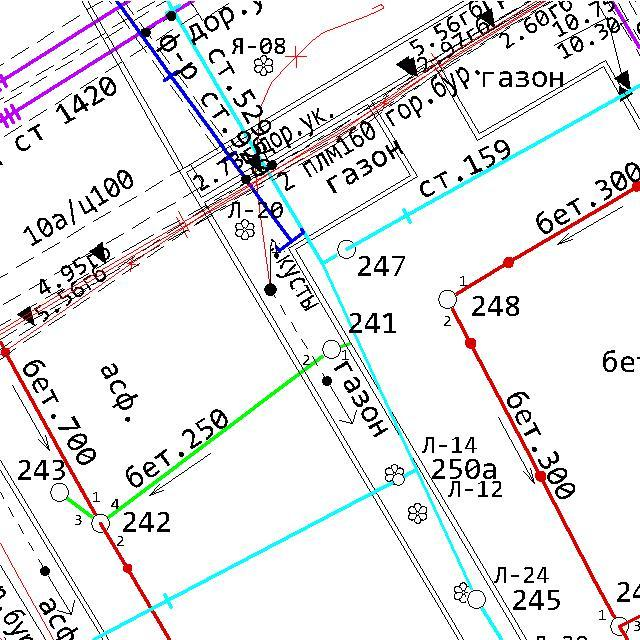asphalt: (100, 362, 140, 425)
bushes: (383, 462, 406, 486), (406, 501, 429, 525), (234, 218, 256, 242), (253, 54, 274, 76)
mark: (395, 54, 419, 78), (87, 240, 108, 266), (16, 305, 36, 327), (477, 6, 497, 28), (245, 151, 263, 174), (614, 69, 632, 90)
well: (320, 338, 343, 361), (48, 481, 71, 504), (335, 238, 358, 260), (89, 512, 112, 534), (436, 288, 458, 310), (609, 616, 631, 638), (465, 589, 488, 610)
